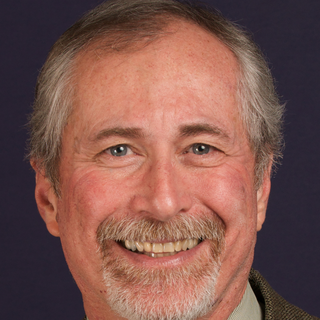eye: (95, 140, 144, 163), (176, 138, 223, 161)
